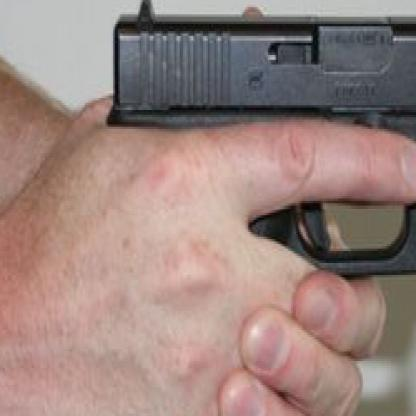gun: (110, 0, 414, 414)
